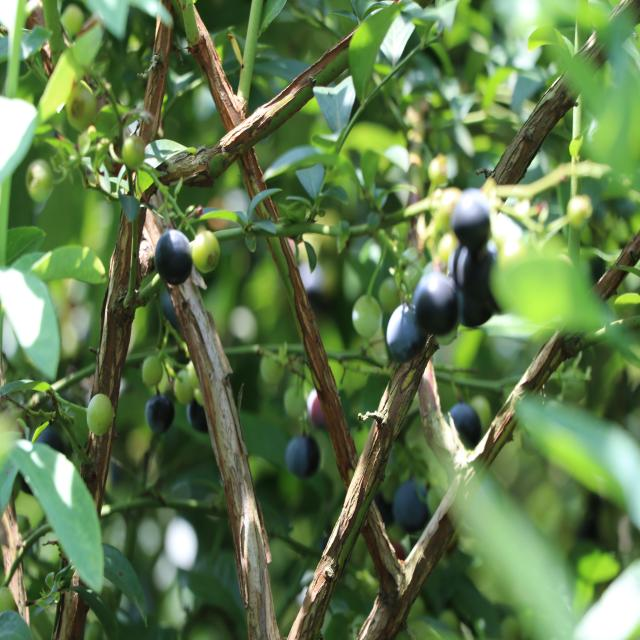blueberry: (387, 299, 431, 364), (153, 225, 195, 285), (417, 274, 459, 334), (393, 478, 434, 532), (463, 245, 502, 292), (452, 193, 490, 241), (284, 432, 322, 478), (448, 402, 484, 448), (142, 389, 174, 435), (187, 398, 213, 436)
blueberry-unripe: (64, 83, 97, 133), (349, 292, 383, 340), (193, 224, 223, 274), (25, 156, 53, 204), (86, 390, 114, 434), (120, 135, 145, 169), (260, 347, 285, 381), (284, 384, 306, 416), (141, 358, 164, 388)
